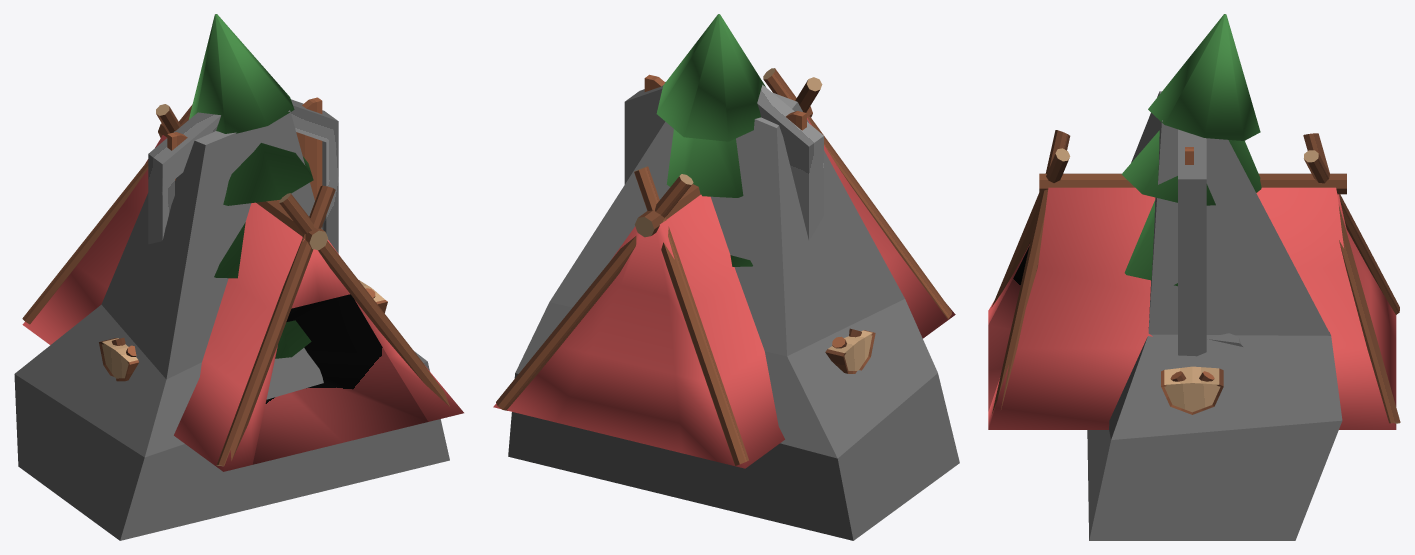
Rendered from hub_world_props.fbx.
3 views of the same model, side by side, from view 1: azimuth 30°, elevation 25°; view 2: azimuth 150°, elevation 25°; view 3: azimuth 270°, elevation 25° (orthographic). The views are drawn at different scales.
Parts seen in each view (by area): view 1: Rock.002, Tent, Tree, DoorFrame, Rock.001, WoodBench, RightDoor; view 2: Rock.002, Tent, Tree, DoorFrame, WoodBench; view 3: Rock.002, Tent, Tree, DoorFrame, WoodBench.
Part boxes in pixels (x1,y1,x2,y2): Rock.002: (14,110,449,540); Tent: (22,104,463,471); Tree: (189,14,313,358); DoorFrame: (148,99,338,253); Rock.001: (206,452,351,519); WoodBench: (99,280,387,381); RightDoor: (296,97,322,226); Rock.002: (508,92,959,540); Tent: (493,68,955,468); Tree: (656,14,765,266); DoorFrame: (624,82,823,241); WoodBench: (825,328,875,373); Rock.002: (1087,91,1342,540); Tent: (988,130,1400,429); Tree: (1121,14,1261,286); DoorFrame: (1178,129,1206,356); WoodBench: (1161,366,1223,414).
Size of what is drawn, in the model's own units: 375 by 400 by 475.
